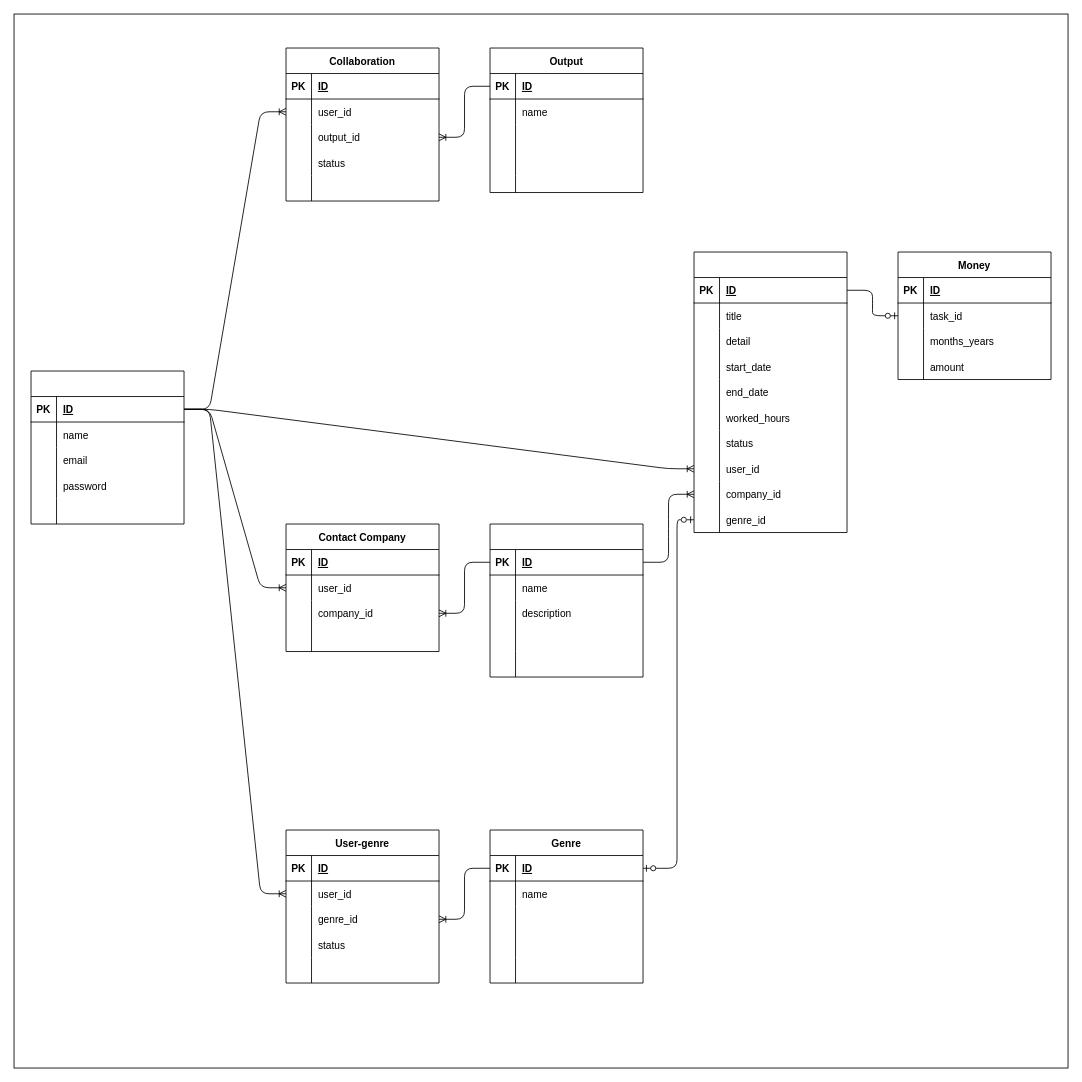
This 1082x1082 diagram has some shape labels left out. The box of each missing label's shape, as (x1, y1, x2, y2) in pixels:
Company: (489, 523, 643, 677)
Task: (693, 251, 847, 533)
User: (30, 370, 184, 524)
